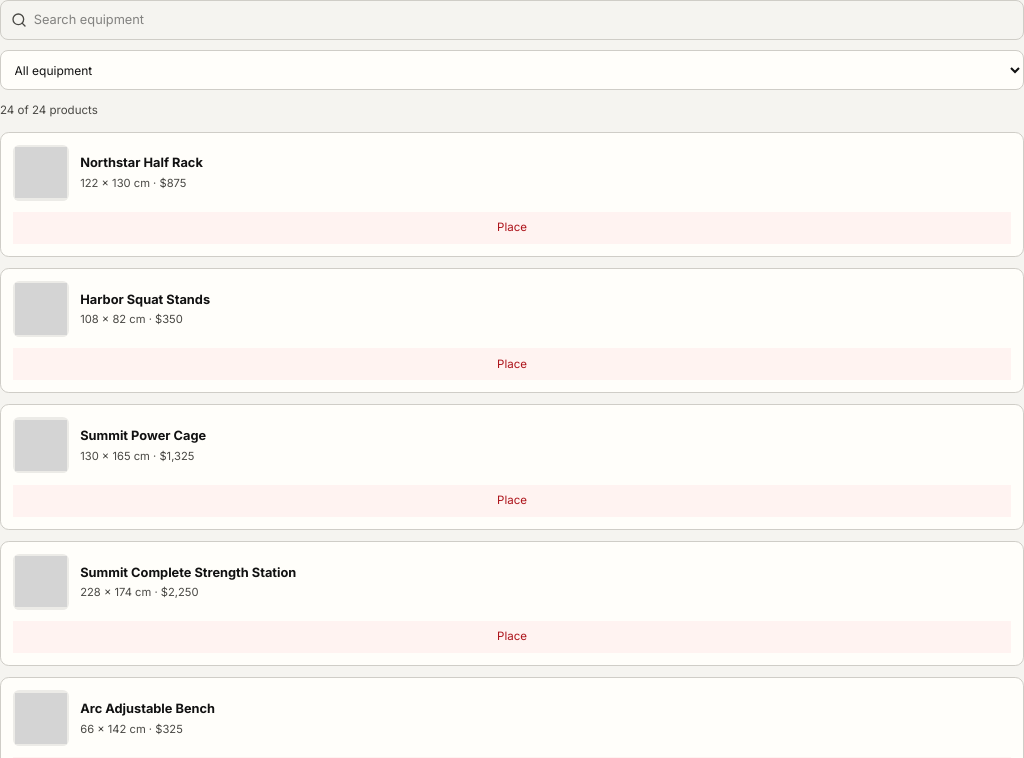
EquipmentCatalogPanel › filters all equipment in benches
This screenshot has width=1024, height=758.
Select "Benches" in the dropdown named "Equipment category" at (512,70), box [0,50,1023,90]
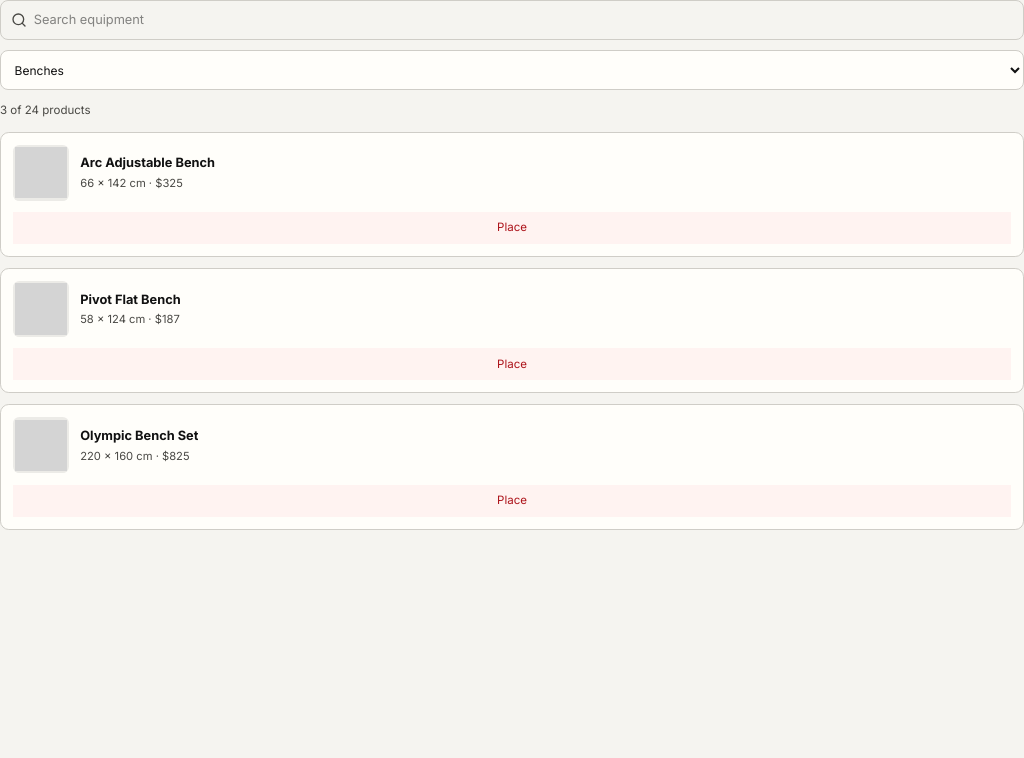
Expected: the button with aria-label "Place Pivot Flat Bench" is shown, [13,348,1011,380]
Now the number of buttons is 3, box [13,212,1011,244]; [13,348,1011,380]; [13,485,1011,517]
